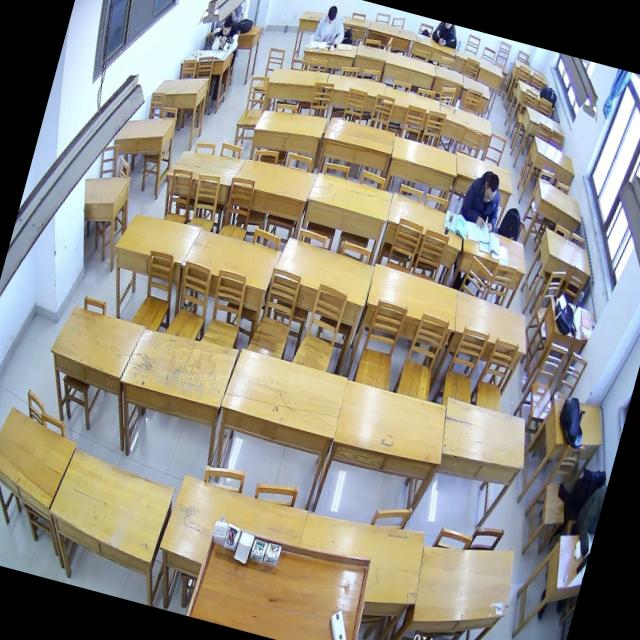down: (480, 172, 501, 204), (324, 3, 338, 24), (220, 16, 233, 37)
sit: (456, 166, 508, 232), (312, 2, 351, 48), (210, 15, 243, 55)
